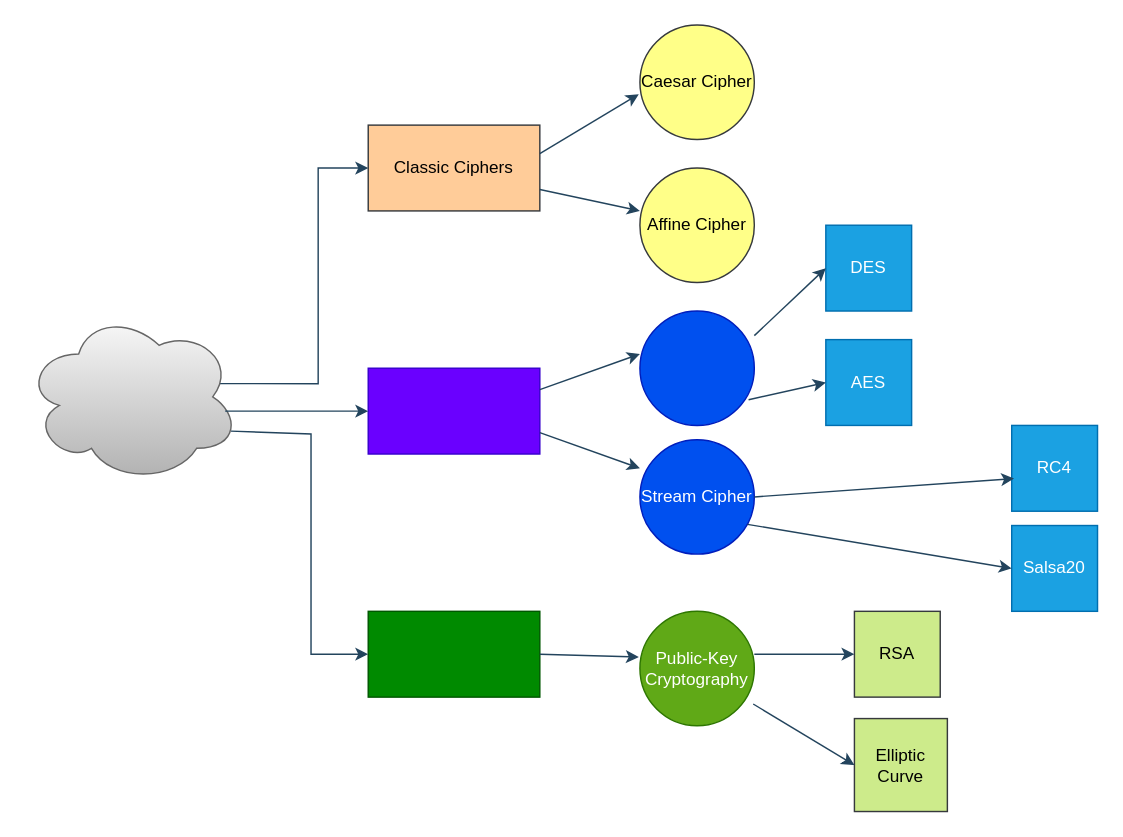
The diagram is 1123 pixels wide and 837 high, and some of its shapes have lost their labels. The centre of each missing label's shape, as x and y in pixels:
Asymmetric Key Cryptography: point 453,653
Block Cipher: point 696,367
Cryptography: point 132,396
Symmetric Key Cryptography: point 453,410
